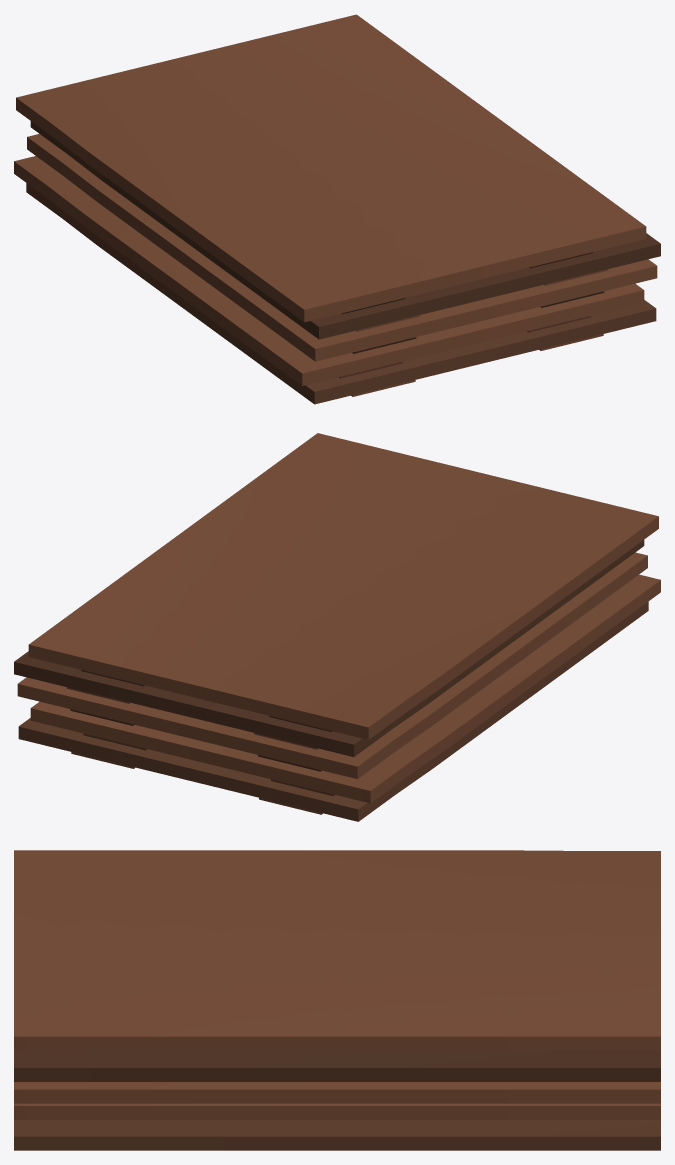
The model's file is Multiple Small Cherry Crate Lids.fbx.
The picture shows the model from 3 angles, top to bottom: view 1: azimuth 30°, elevation 25°; view 2: azimuth 150°, elevation 25°; view 3: azimuth 270°, elevation 25°; orthographic projection. The views are drawn at different scales.
Parts seen in each view (by area): view 1: Small Multiple Cherry Crate Lids; view 2: Small Multiple Cherry Crate Lids; view 3: Small Multiple Cherry Crate Lids.
Boxes of the visible parts, x1,y1,x2,y2 form: Small Multiple Cherry Crate Lids: [14, 14, 660, 404]; Small Multiple Cherry Crate Lids: [14, 433, 660, 821]; Small Multiple Cherry Crate Lids: [14, 850, 660, 1150].
Size of the model in its own units: 41.19 by 204 by 146.
Materials: 1 (1 with a texture image).
